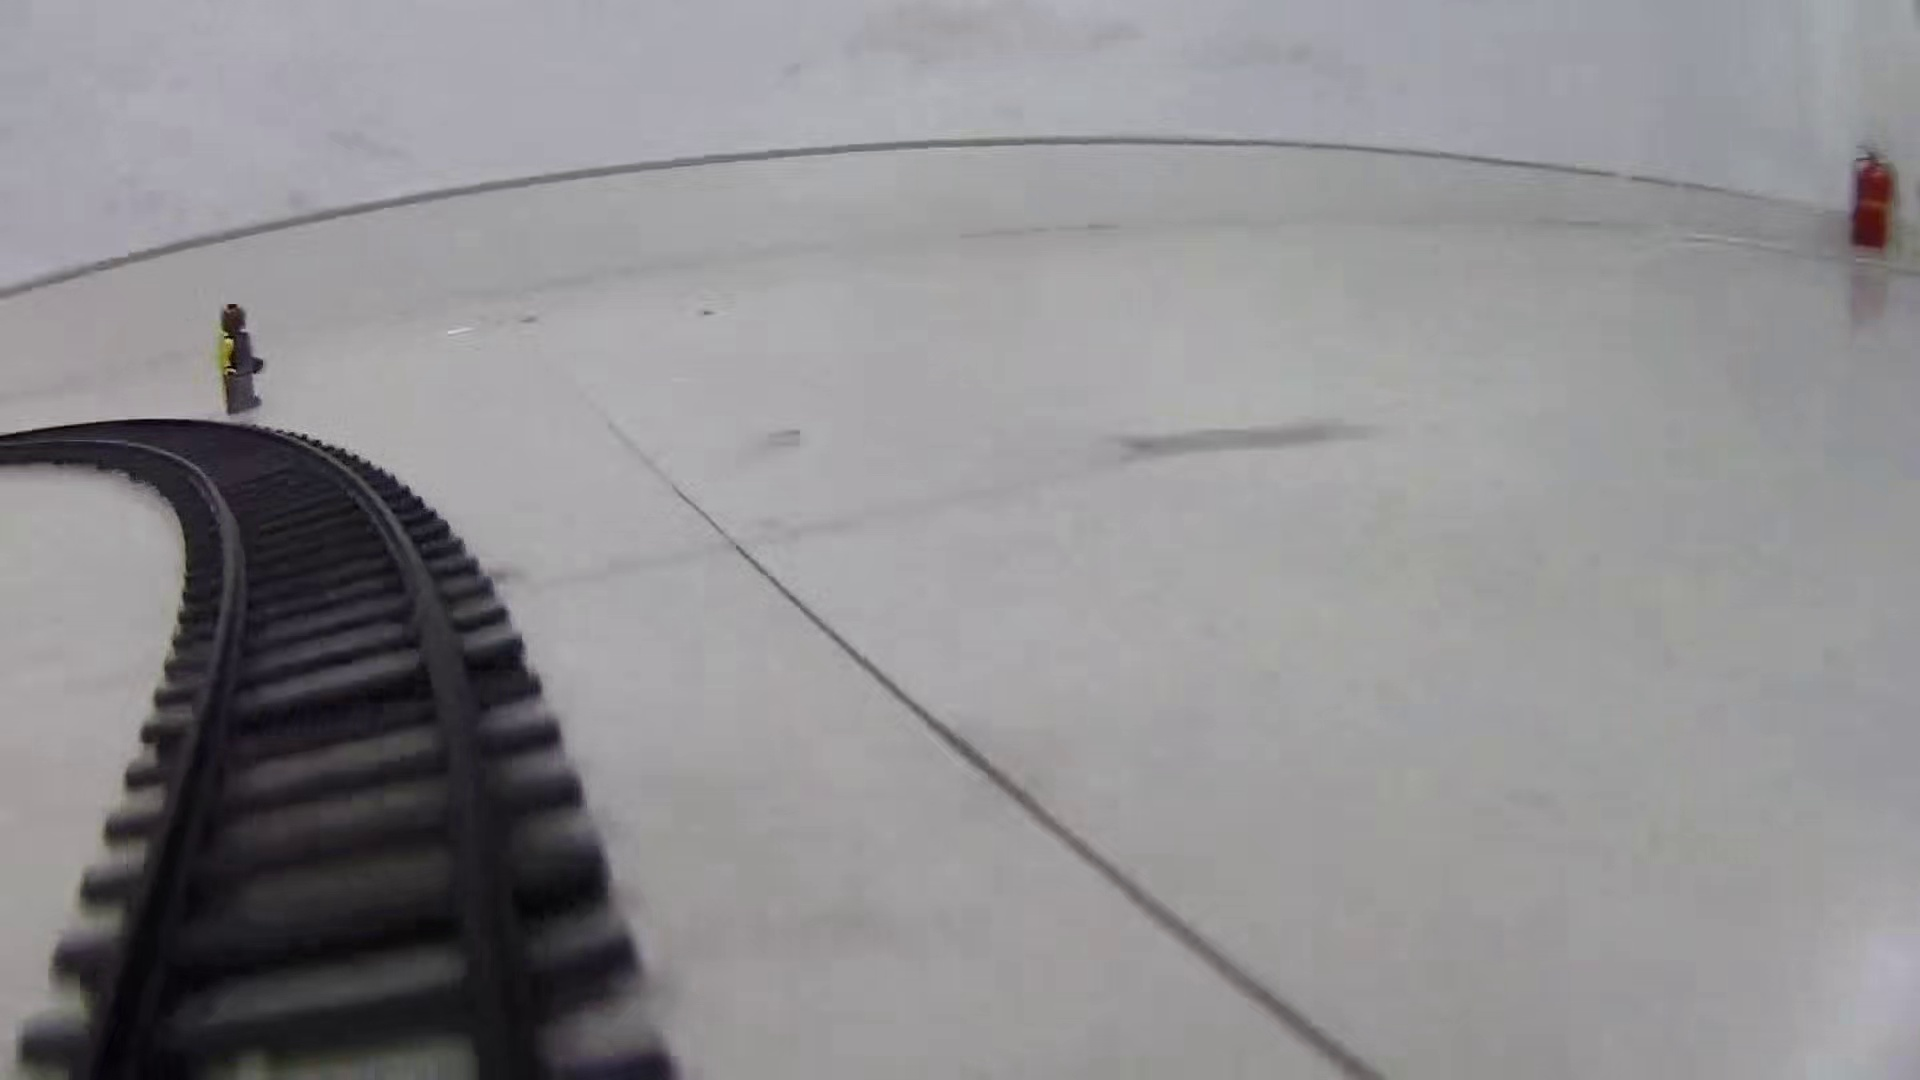people: (217, 302, 268, 416)
